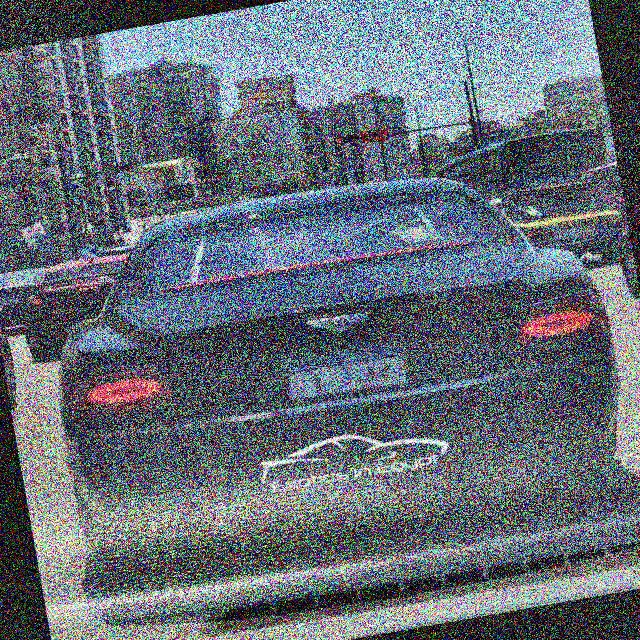License Plate: (281, 335, 410, 404)
